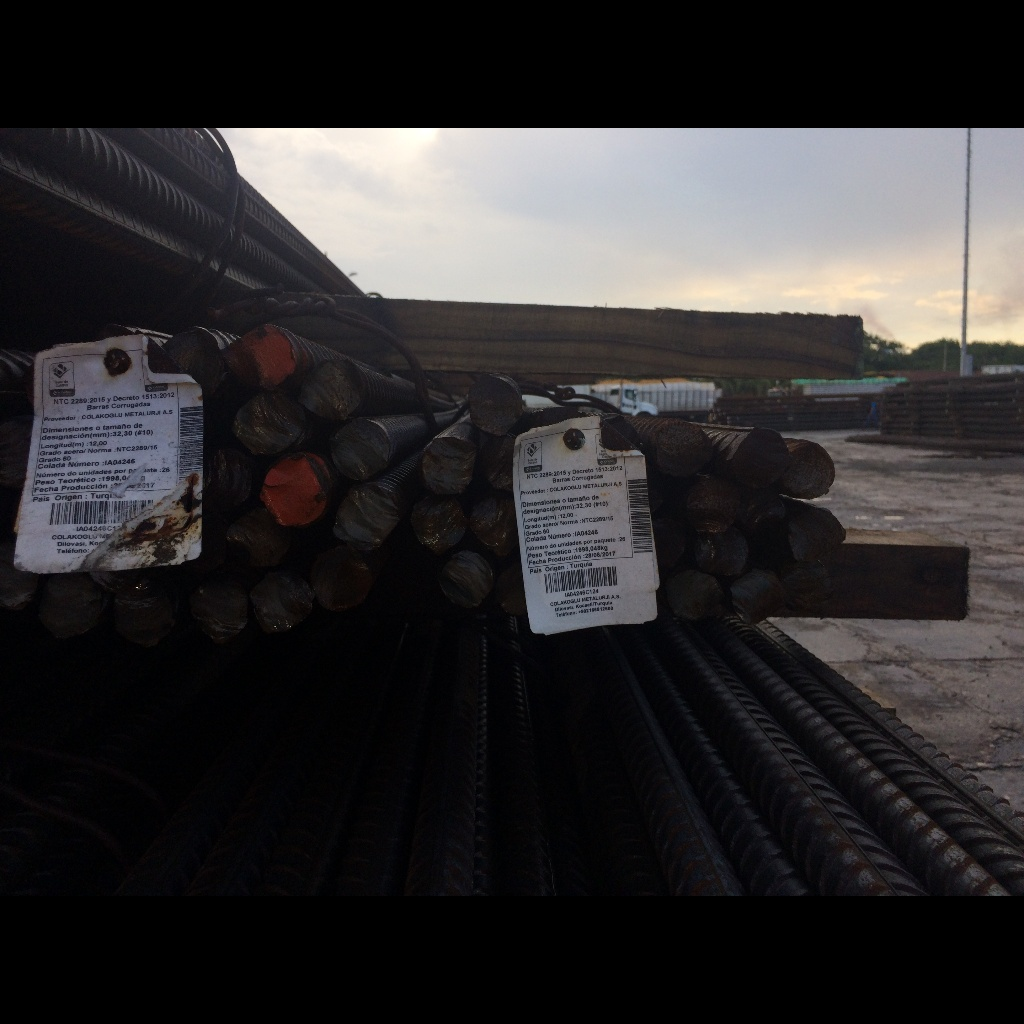dipstick: (224, 325, 295, 388), (41, 570, 104, 638), (235, 393, 305, 454), (334, 485, 396, 548), (264, 458, 324, 523), (251, 573, 313, 635), (115, 578, 173, 644), (166, 328, 222, 396), (313, 547, 371, 610), (190, 581, 248, 643), (330, 421, 390, 480), (302, 362, 362, 420), (421, 437, 474, 494), (654, 422, 712, 474), (229, 512, 284, 566), (412, 497, 466, 551), (789, 510, 846, 561), (787, 440, 835, 499), (439, 552, 491, 606), (204, 448, 248, 511), (471, 377, 519, 434), (738, 429, 786, 483), (687, 481, 737, 532), (667, 572, 720, 620), (732, 572, 781, 623), (471, 497, 515, 548), (697, 533, 748, 576), (737, 490, 784, 530), (481, 434, 514, 488)
